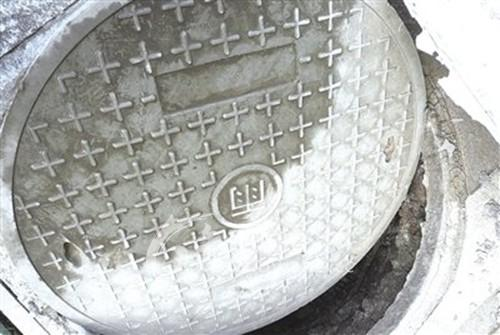uncovered: (11, 4, 473, 331)
